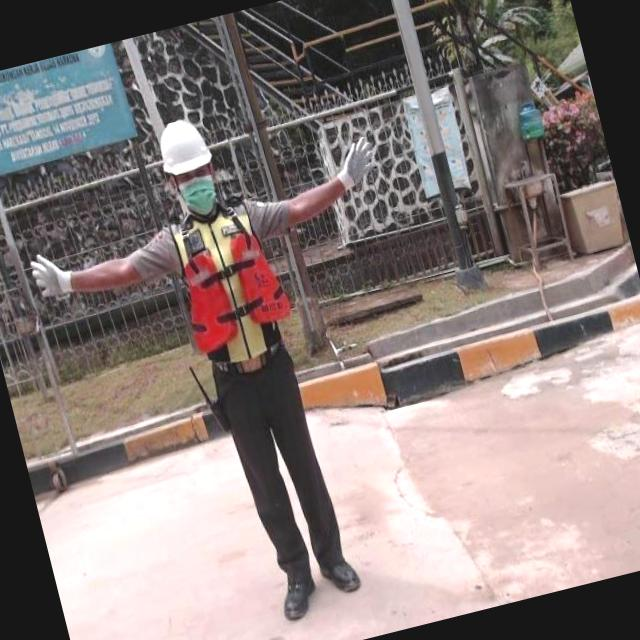vest: (153, 192, 308, 374)
